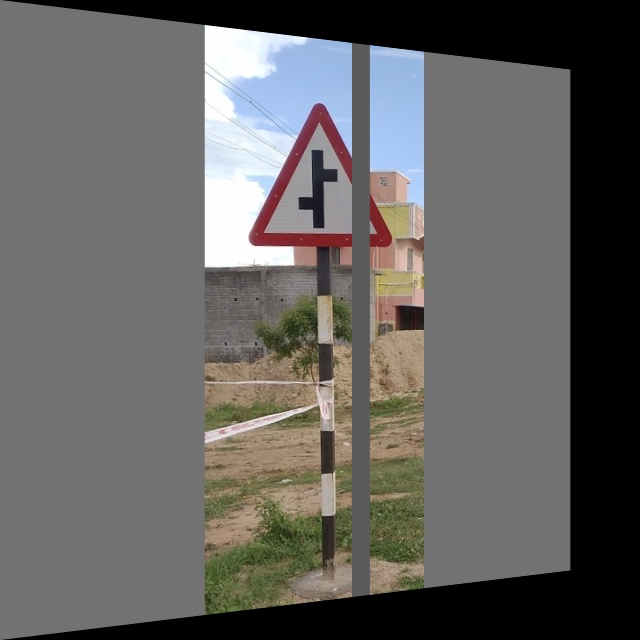Staggered_Intersection: (249, 88, 396, 257)
